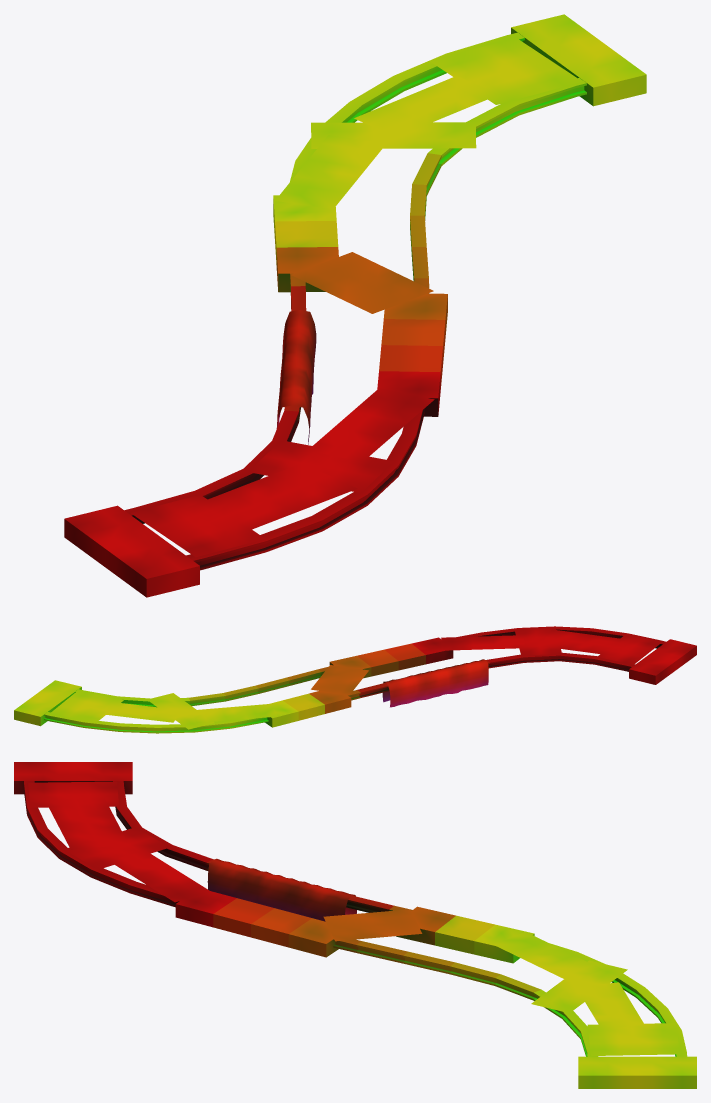
File: D4_MapBaked.fbx
3 views of the same model, one above another, from view 1: azimuth 30°, elevation 25°; view 2: azimuth 150°, elevation 25°; view 3: azimuth 270°, elevation 25° (orthographic). The views are drawn at different scales.
Visible parts, largest first — view 1: object_merge10; view 2: object_merge10; view 3: object_merge10.
Boxes of the visible parts, x1,y1,x2,y2 form: object_merge10: [64, 14, 646, 597]; object_merge10: [14, 626, 696, 733]; object_merge10: [14, 762, 696, 1088].
Bounding box in the file's own units: 5000 × 247 × 4604.
